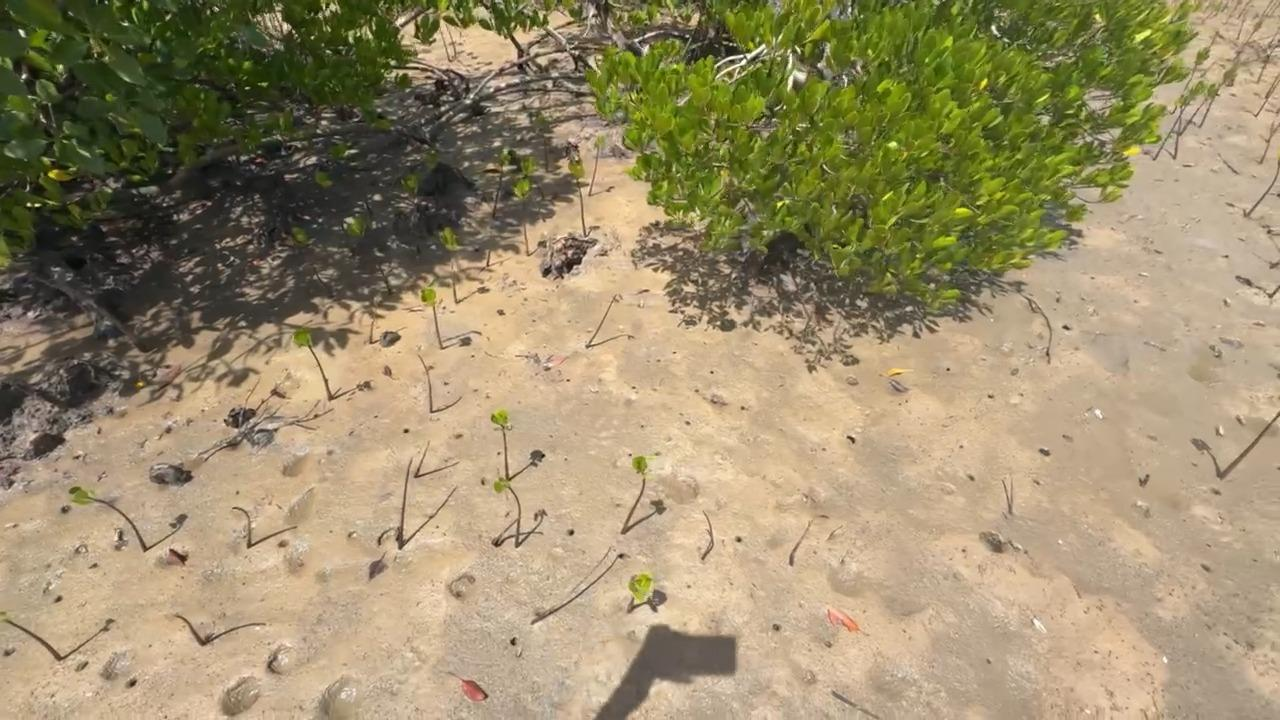Tree: (69, 487, 147, 551), (1153, 79, 1209, 161), (1219, 410, 1280, 481), (342, 215, 392, 292), (288, 226, 331, 296), (291, 330, 333, 400), (0, 612, 61, 660), (621, 456, 650, 535), (1246, 150, 1280, 216), (1201, 65, 1237, 127), (399, 174, 433, 234), (586, 294, 623, 347), (1180, 83, 1217, 136), (494, 476, 521, 547), (438, 225, 459, 303), (397, 457, 414, 549), (568, 155, 587, 236), (419, 288, 444, 348), (491, 410, 512, 480), (491, 145, 511, 218), (513, 178, 531, 255), (1233, 21, 1262, 62), (1185, 46, 1211, 89), (626, 573, 654, 610), (1257, 37, 1280, 82), (416, 354, 434, 411), (173, 612, 204, 645), (1174, 91, 1188, 159), (534, 112, 550, 171), (1257, 77, 1280, 117), (590, 136, 605, 197), (232, 506, 252, 546), (1260, 123, 1279, 165), (700, 511, 714, 558), (520, 156, 537, 182), (1000, 479, 1012, 513)
